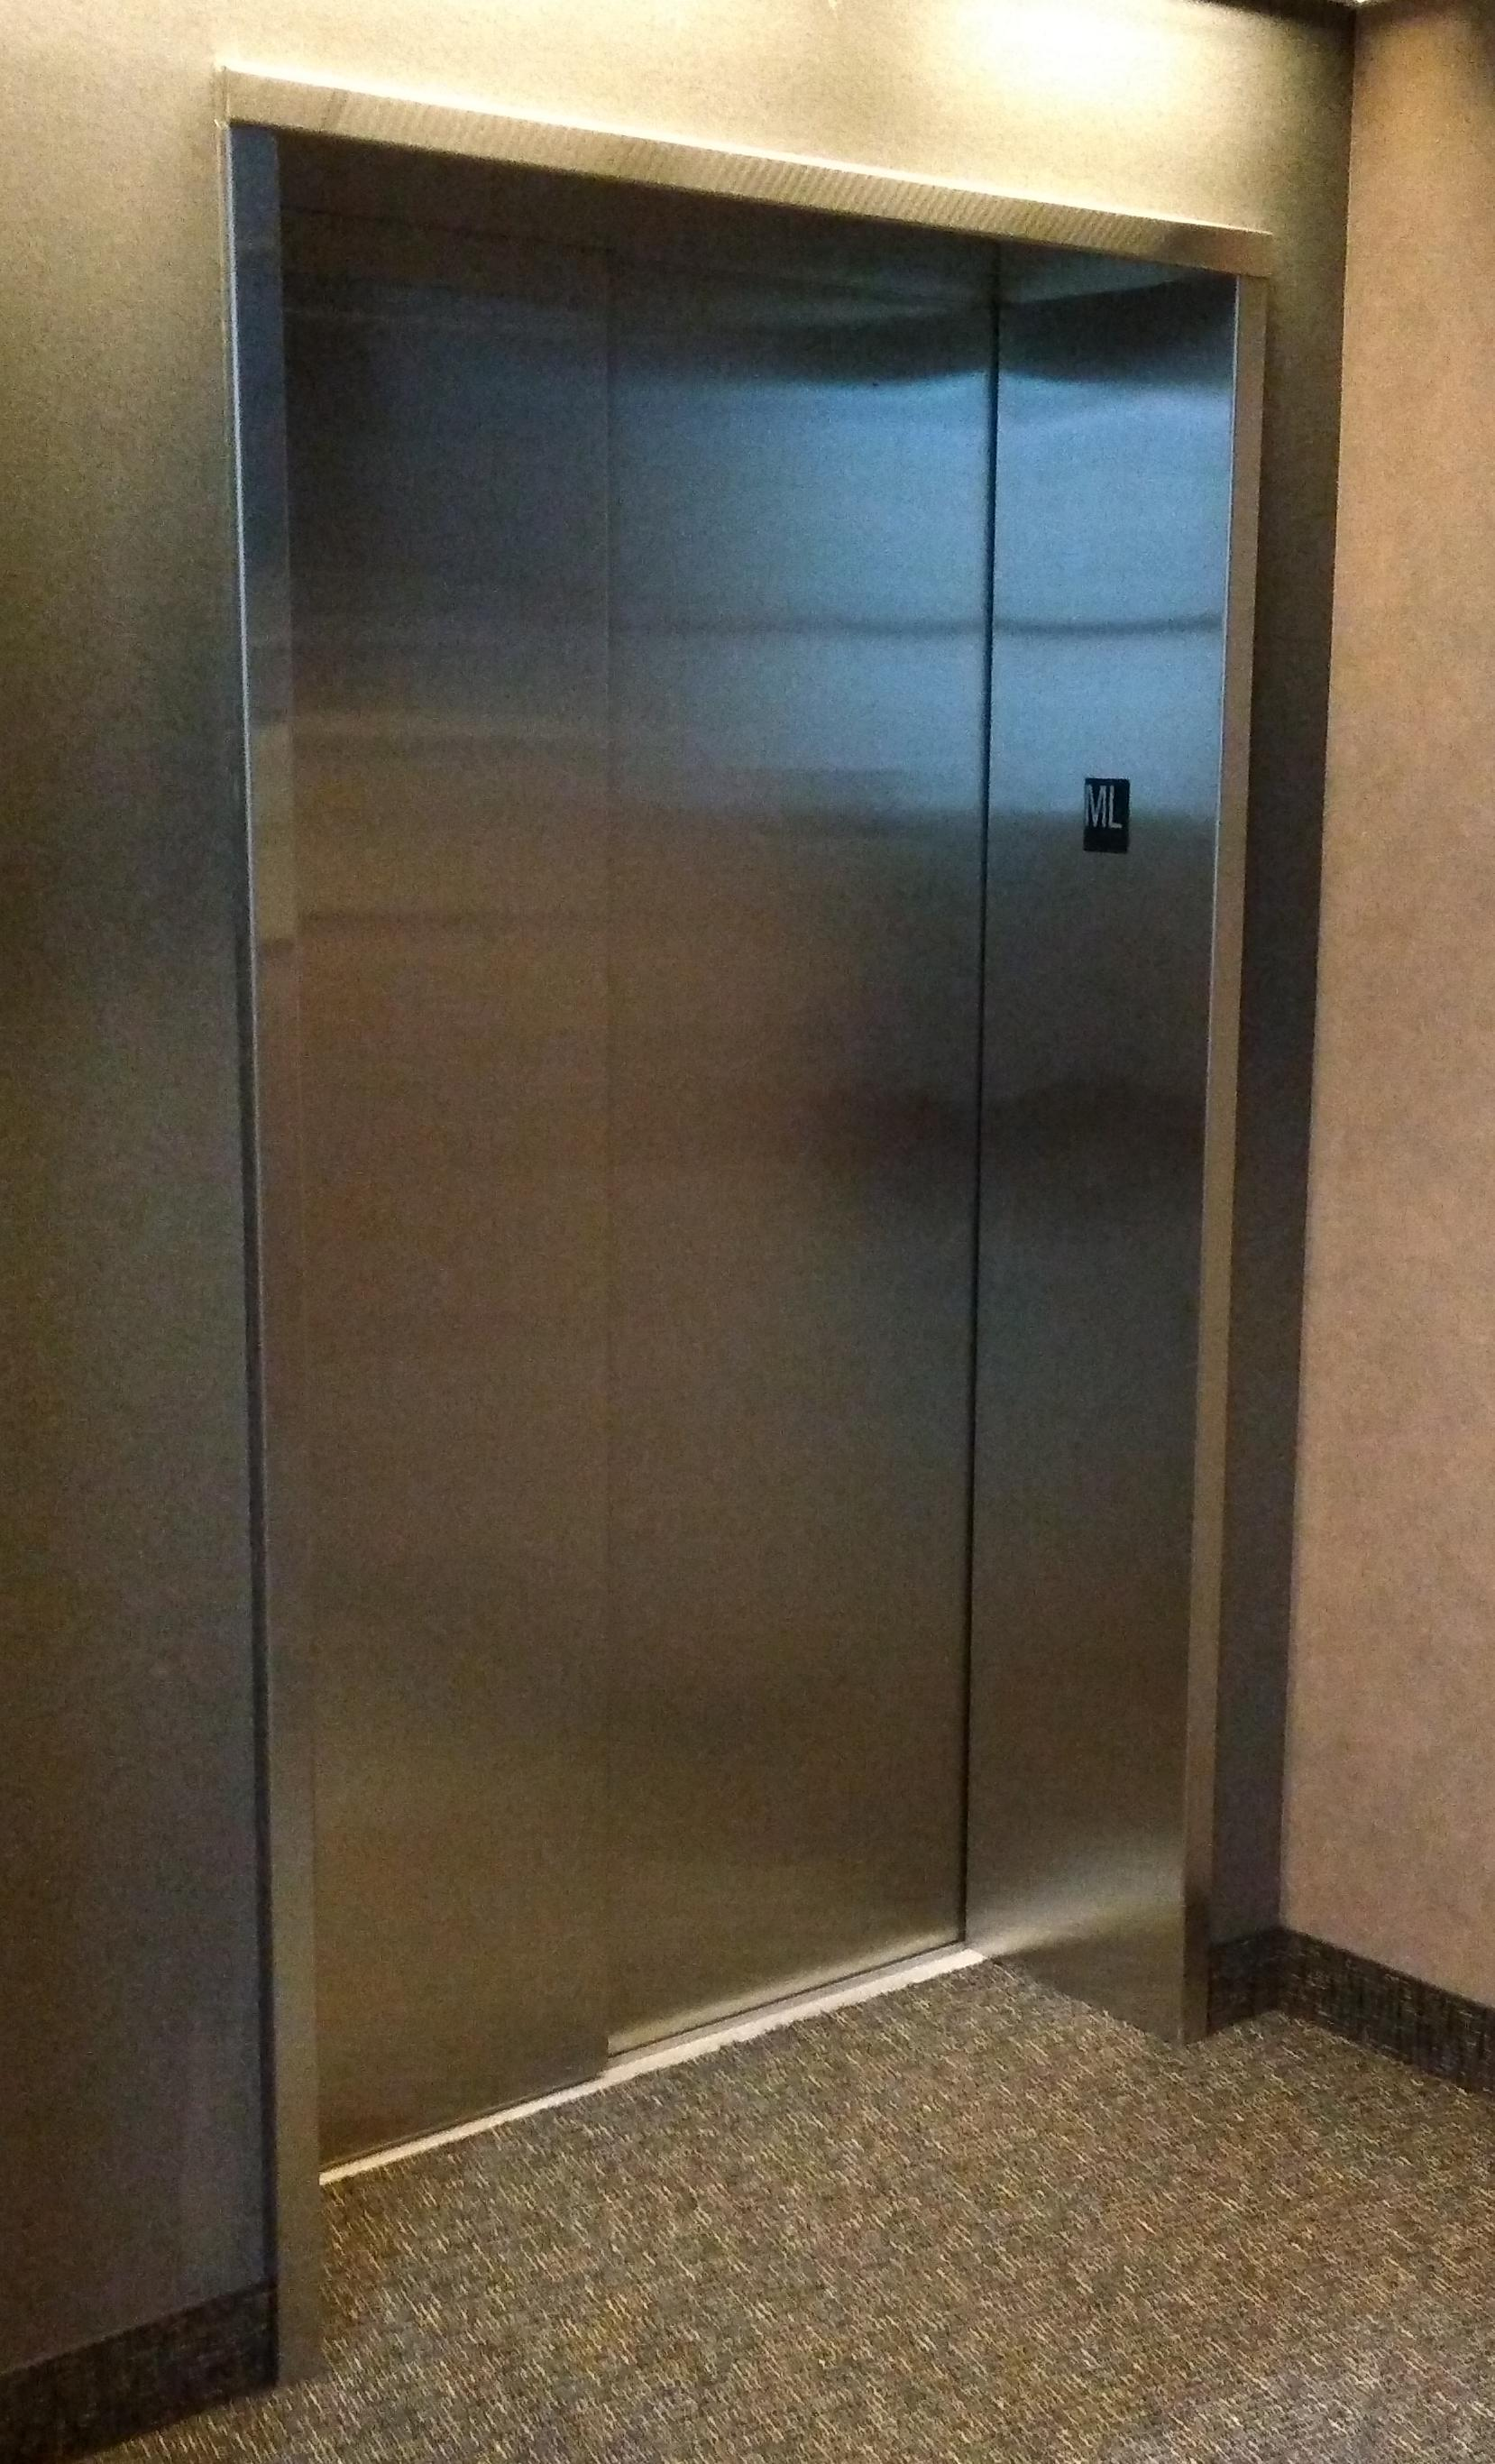door: (232, 65, 1258, 2374)
